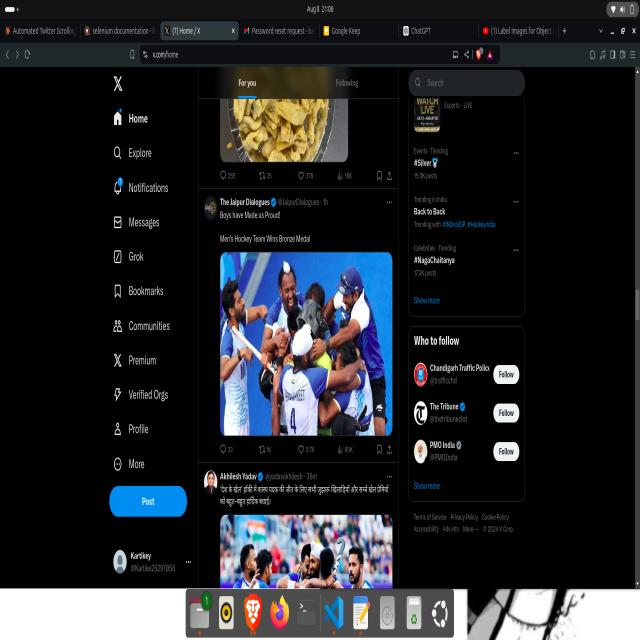Tweet-Comment_Box-: (197, 187, 402, 469)
